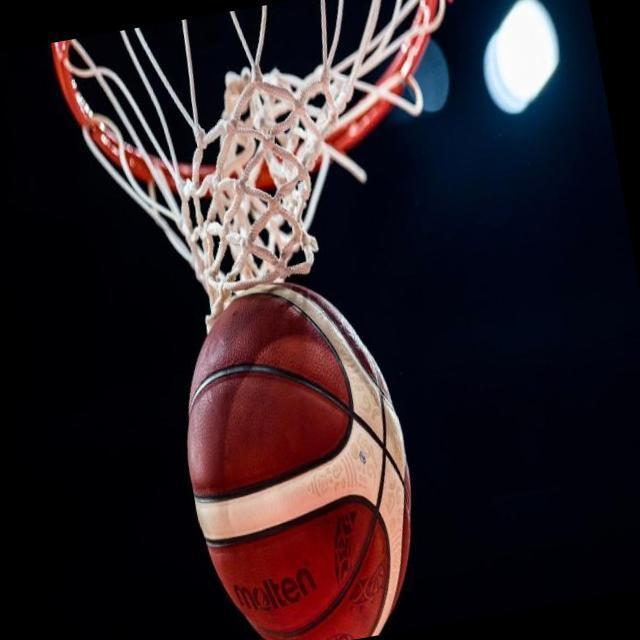ball: (157, 257, 438, 640)
